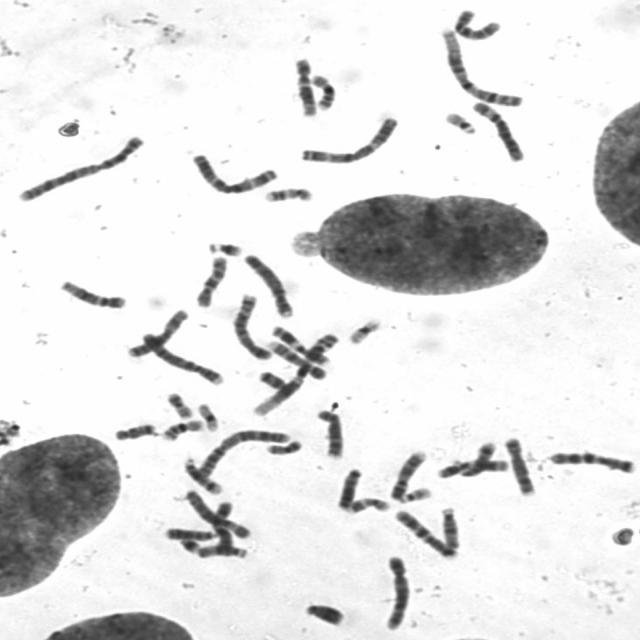A1: (248, 327, 342, 418), (436, 23, 526, 108)
A2: (12, 130, 148, 203), (192, 425, 292, 477)
A3: (295, 111, 402, 165), (186, 148, 281, 195)
B4: (134, 327, 226, 386), (239, 248, 297, 319)
B5: (227, 288, 274, 361), (378, 550, 413, 632)
C10: (190, 250, 230, 309), (448, 4, 504, 42)
C11: (266, 321, 332, 366), (432, 453, 513, 480)
C12: (54, 275, 129, 310), (289, 52, 320, 118)
C6: (467, 96, 528, 163), (179, 485, 253, 539)
C7: (389, 505, 460, 559), (542, 446, 638, 475)
C8: (499, 432, 539, 498), (311, 404, 347, 460)
C9: (262, 336, 328, 381), (384, 445, 430, 502)
D13: (331, 463, 365, 512), (160, 523, 219, 541)
D14: (178, 453, 225, 495), (456, 436, 500, 478)
D15: (435, 502, 462, 556), (192, 539, 250, 560)
E16: (306, 69, 340, 111), (156, 415, 206, 442)
E17: (259, 182, 315, 204), (342, 492, 392, 515)
E18: (109, 417, 160, 442), (254, 366, 292, 391)
F19: (342, 314, 384, 346), (192, 398, 221, 433)
F20: (160, 387, 196, 420), (260, 435, 304, 456)
G21: (202, 236, 246, 257), (175, 533, 203, 555)
G22: (440, 107, 480, 135), (396, 482, 434, 503)
X: (121, 304, 191, 359), (207, 496, 235, 556)
Y: (298, 597, 348, 628)
